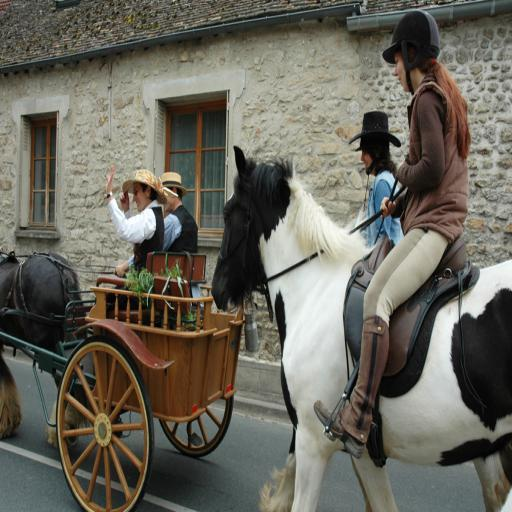horse: (208, 146, 512, 512), (0, 252, 89, 446)
